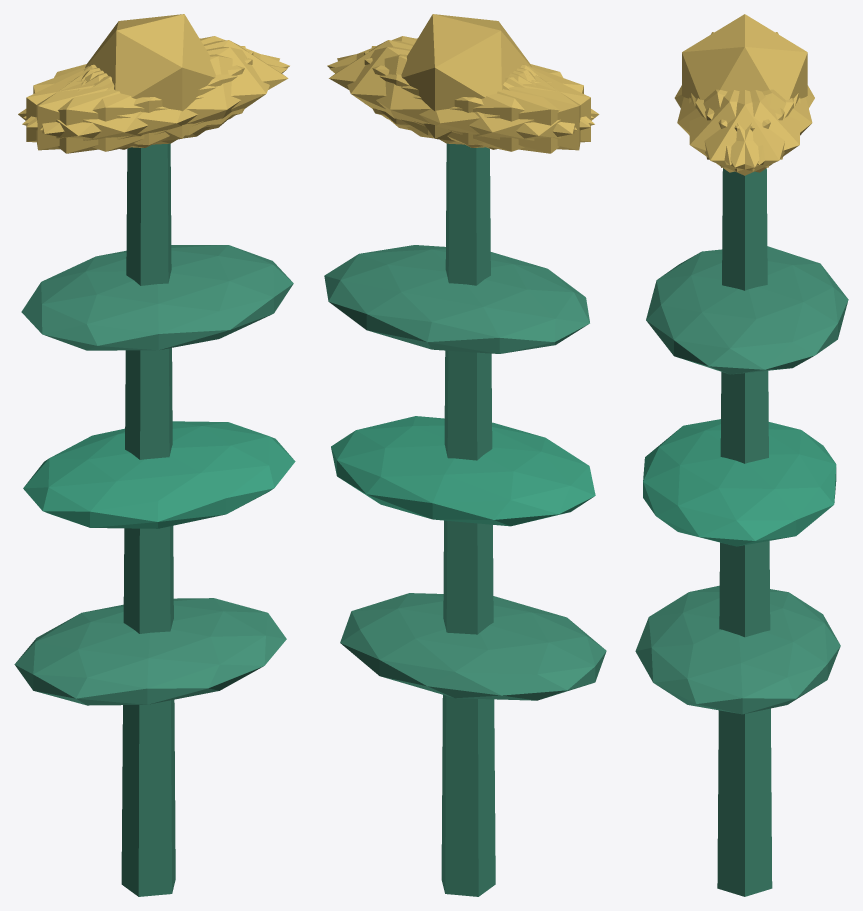
File: sansevieria-bacularis.glb
3 views of the same model, side by side, from view 1: azimuth 30°, elevation 25°; view 2: azimuth 150°, elevation 25°; view 3: azimuth 270°, elevation 25° (orthographic).
Visible parts, largest first — view 1: stem, leaf0, leaf2, leaf1, center, petal1, petal6, petal2, petal5, petal7, petal0, petal4 (+2 smaller); view 2: stem, leaf2, leaf0, leaf1, center, petal8, petal3, petal7, petal4, petal2, petal0, petal5 (+2 smaller); view 3: stem, leaf2, leaf1, leaf0, center, petal0, petal5, petal4, petal1, petal8.
Boxes of the visible parts, left/top/right/bottom form: stem: left=121, top=143, right=175, bottom=896; leaf0: left=14, top=598, right=286, bottom=705; leaf2: left=21, top=245, right=293, bottom=350; leaf1: left=23, top=421, right=295, bottom=528; center: left=85, top=14, right=215, bottom=140; petal1: left=22, top=54, right=287, bottom=151; petal6: left=18, top=66, right=209, bottom=153; petal2: left=36, top=46, right=245, bottom=150; petal5: left=40, top=46, right=279, bottom=145; petal7: left=26, top=51, right=253, bottom=147; petal0: left=84, top=40, right=288, bottom=135; petal4: left=23, top=36, right=289, bottom=127; stem: left=441, top=143, right=495, bottom=896; leaf2: left=324, top=245, right=589, bottom=353; leaf0: left=340, top=593, right=606, bottom=700; leaf1: left=331, top=416, right=595, bottom=526; center: left=401, top=14, right=531, bottom=140; petal8: left=329, top=54, right=594, bottom=151; petal3: left=407, top=66, right=599, bottom=153; petal7: left=371, top=46, right=580, bottom=150; petal4: left=337, top=46, right=576, bottom=145; petal2: left=364, top=51, right=590, bottom=147; petal0: left=329, top=40, right=532, bottom=135; petal5: left=327, top=36, right=593, bottom=127; stem: left=717, top=168, right=772, bottom=896; leaf2: left=646, top=246, right=848, bottom=374; leaf1: left=643, top=419, right=836, bottom=546; leaf0: left=635, top=585, right=840, bottom=714; center: left=682, top=14, right=807, bottom=99; petal0: left=691, top=90, right=798, bottom=175; petal5: left=689, top=90, right=793, bottom=172; petal4: left=695, top=90, right=800, bottom=172; petal1: left=677, top=89, right=784, bottom=165; petal8: left=705, top=89, right=812, bottom=165.
Bounding box in the file's own units: 0.1452 × 0.4584 × 0.1037.
